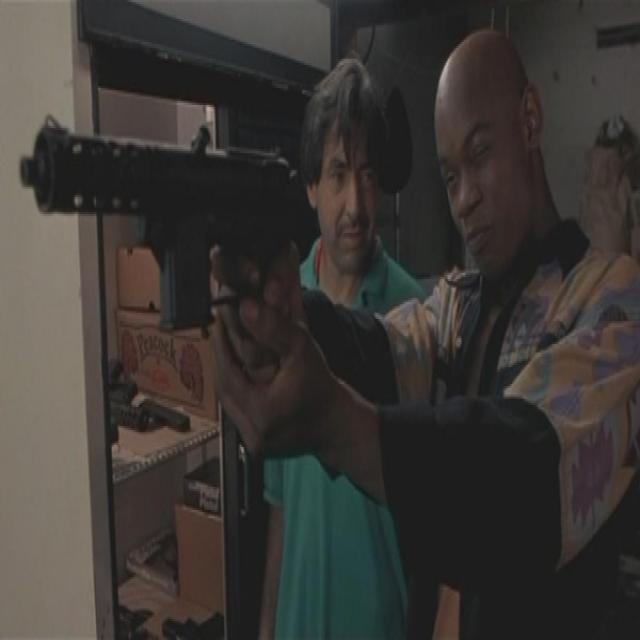rifle: (17, 98, 309, 340)
